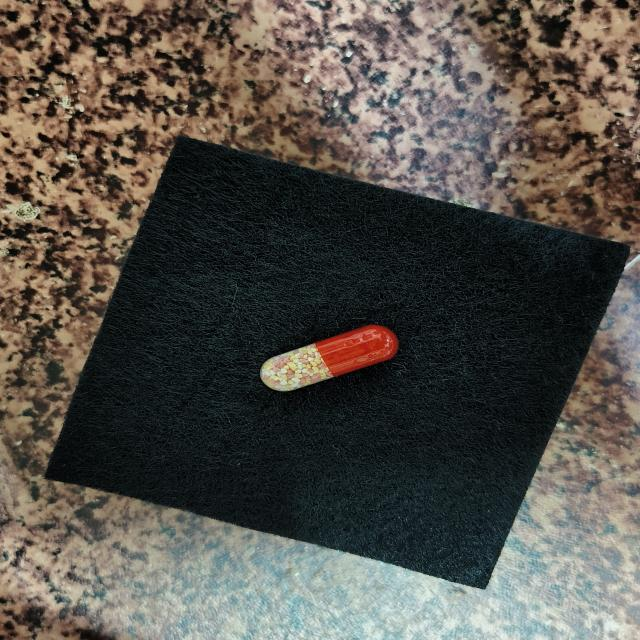Intact Capsule: (260, 324, 398, 391)
